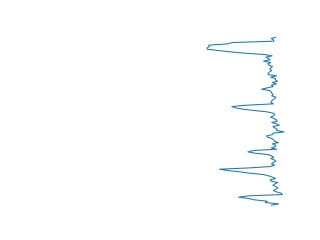distalBar: (207, 35, 281, 84)
interdistributaryEstuary: (230, 84, 287, 145)
underwaterNaturalLevee: (217, 146, 286, 210)
